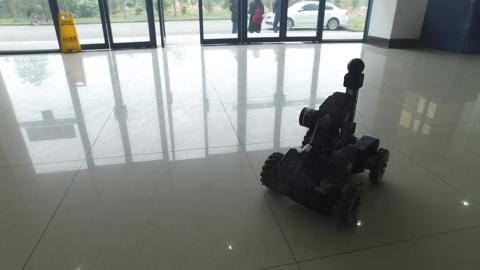car: (263, 1, 352, 31)
chariot: (258, 57, 390, 226)
